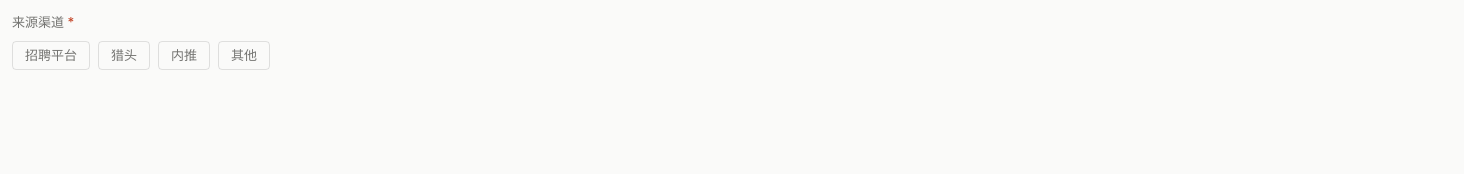
Scenario: SourceChannelPicker › 点击猎头加载供应商并显示猎头列表
Click the button with class "channel-tab" showing "猎头" at (124,55), box 98,40 -> 150,70
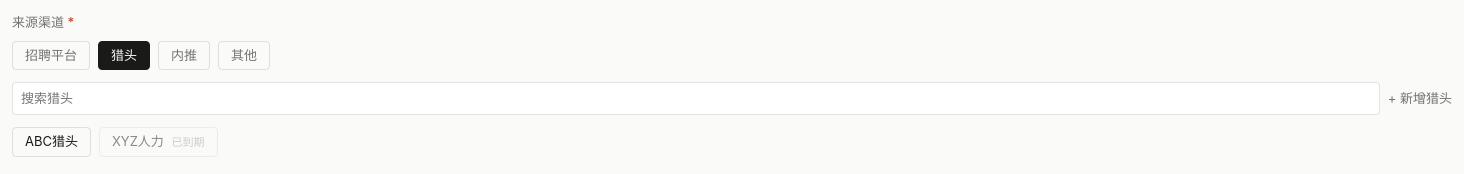
Expected: the text "ABC猎头" is shown, 12,127 -> 91,156
Expected: the text "XYZ人力" is shown, 99,127 -> 218,156
